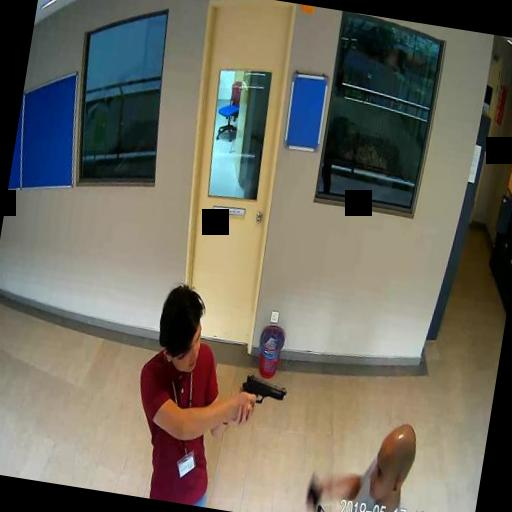Handgun: (236, 370, 286, 426)
